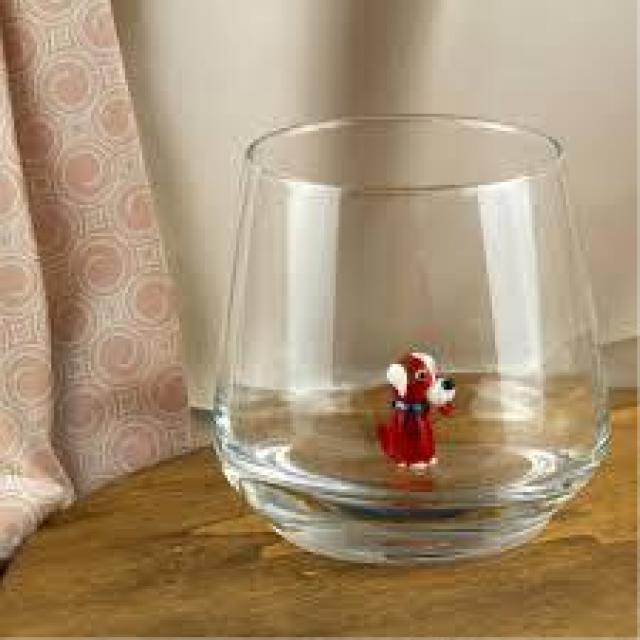non-organic waste: (205, 104, 617, 573)
